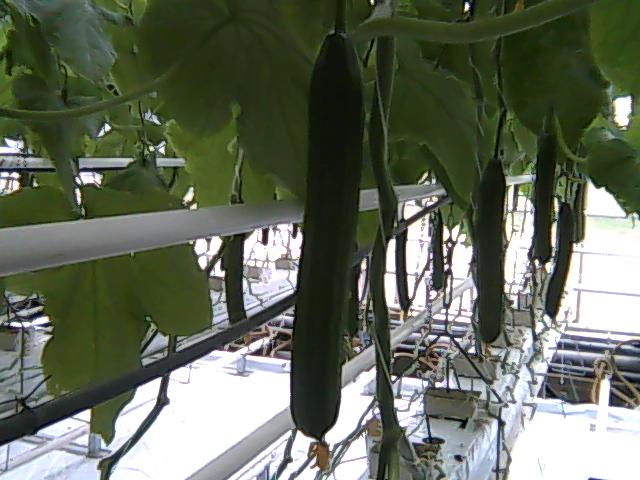concombre: (288, 19, 369, 472), (469, 148, 509, 360)
